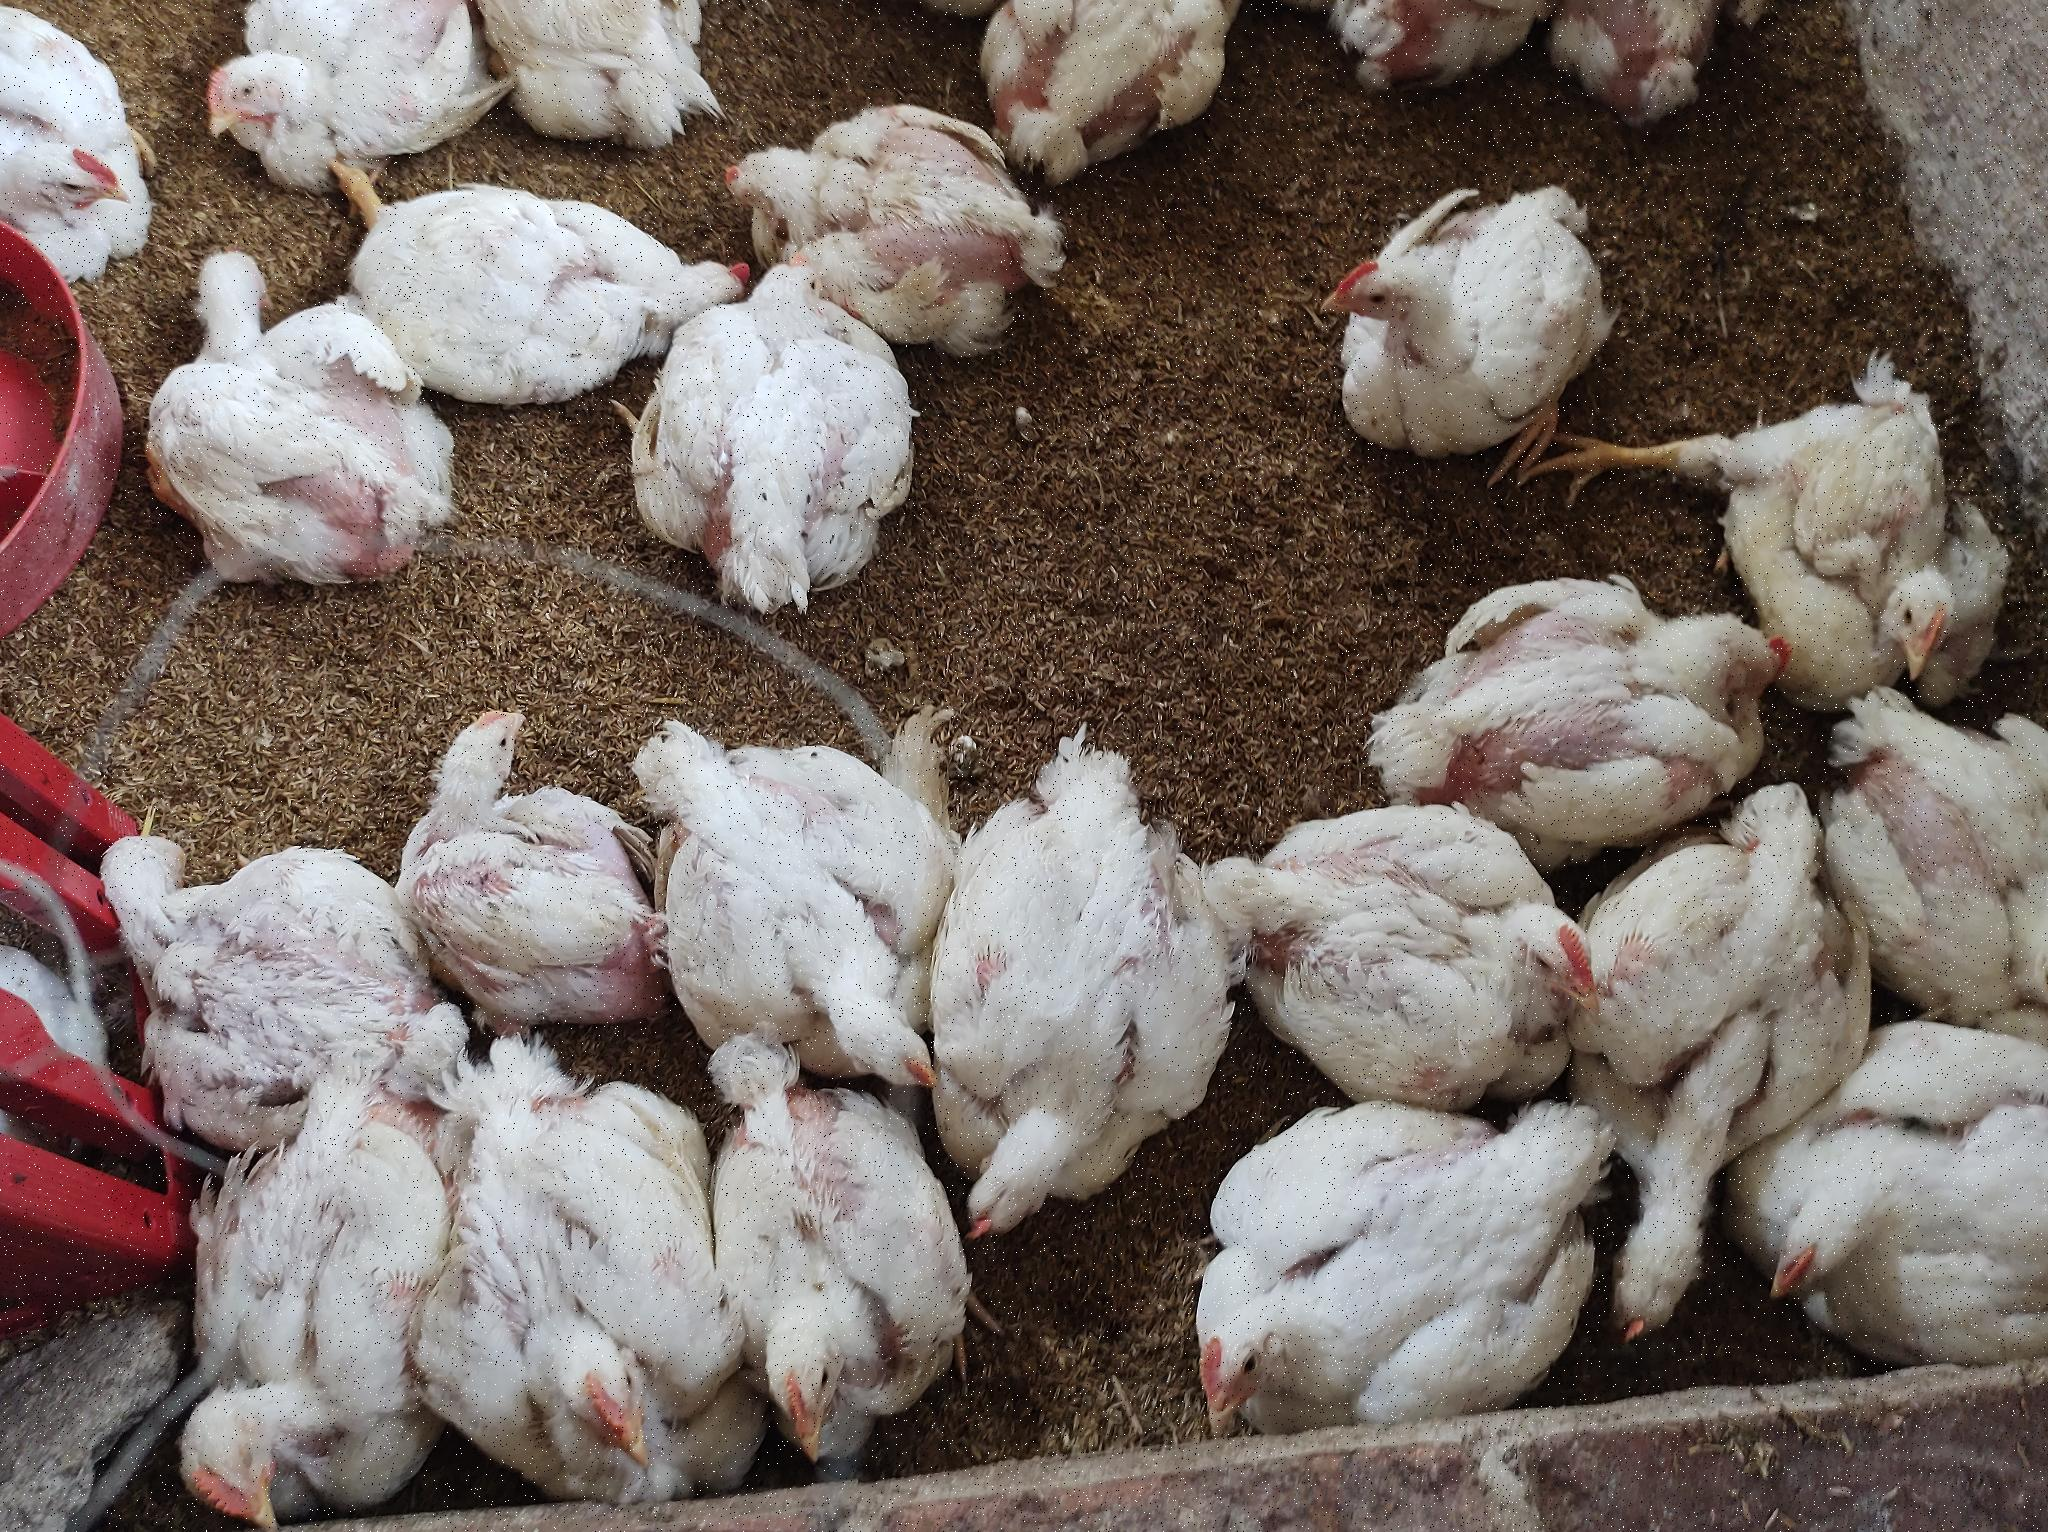Pollos: (1170, 1102, 1589, 1448), (936, 747, 1219, 1225), (426, 1052, 722, 1497), (1213, 768, 1589, 1099), (101, 253, 454, 602), (652, 682, 941, 1075), (619, 262, 914, 615), (1744, 1027, 2048, 1368), (71, 797, 393, 1118), (1416, 565, 1815, 822), (142, 1178, 433, 1527), (1324, 166, 1636, 475), (1704, 372, 2003, 694), (738, 109, 1084, 367), (729, 1089, 954, 1472), (349, 193, 735, 394), (1849, 644, 2048, 1003), (394, 715, 635, 1009), (1586, 1019, 1734, 1390), (198, 2, 487, 180), (988, 2, 1287, 166), (2, 2, 171, 283), (491, 5, 729, 142)
